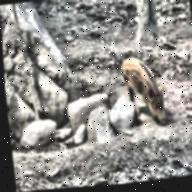boar: (110, 46, 178, 132)
